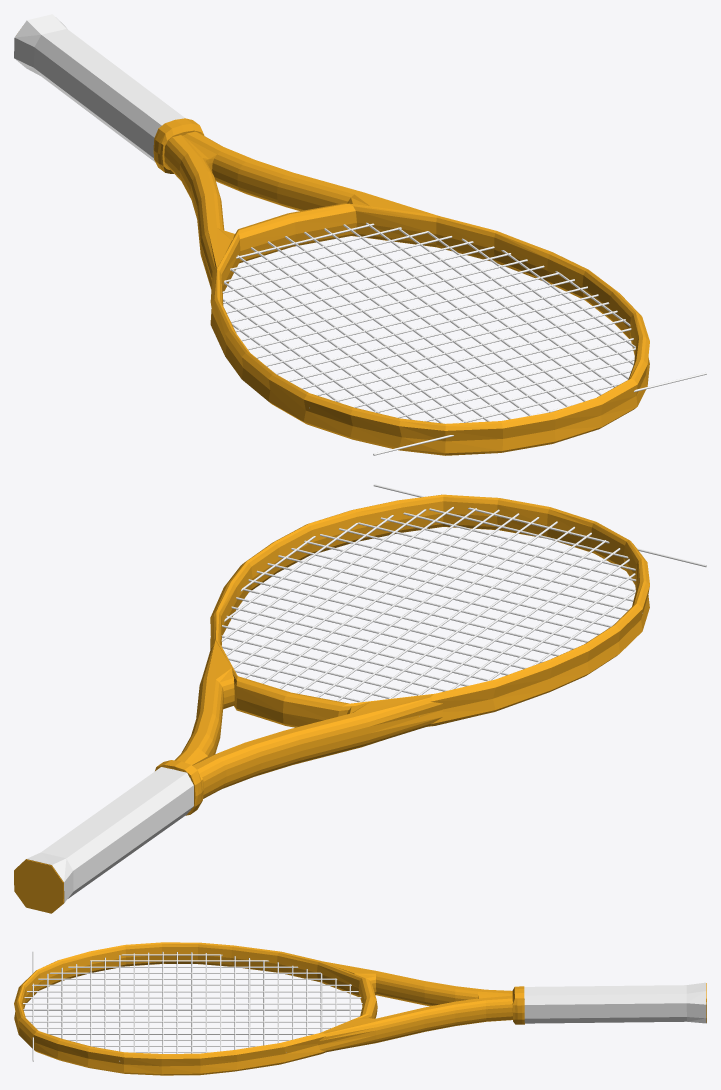
The model's file is tennis_racquet.gltf.
3 renders of one model, top to bottom at view 1: azimuth 30°, elevation 25°; view 2: azimuth 150°, elevation 25°; view 3: azimuth 270°, elevation 25°, orthographic. The views are drawn at different scales.
Parts seen in each view (by area): view 1: node-0; view 2: node-0; view 3: node-0.
Boxes of the visible parts, x1,y1,x2,y2 form: node-0: [14, 14, 706, 455]; node-0: [14, 484, 706, 913]; node-0: [14, 942, 706, 1075].
Bounding box in the file's own units: 130 × 18.37 × 330.
